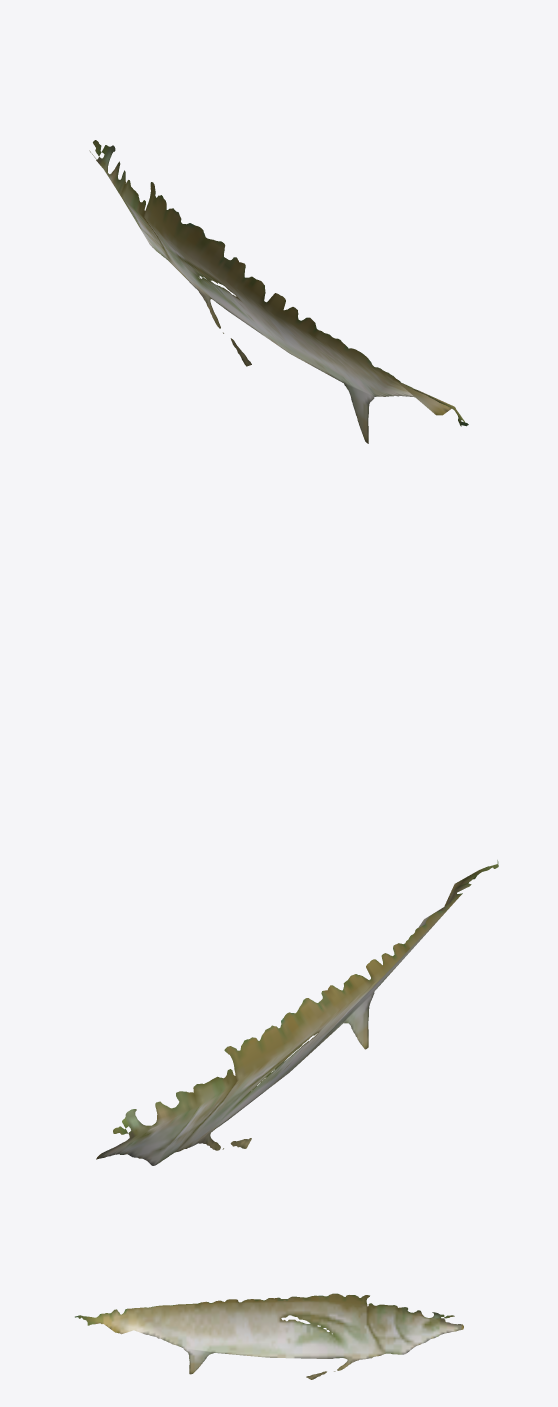
Rendered from INST_LT_GMARLIN.fbx.
The picture shows the model from 3 angles, top to bottom: view 1: azimuth 30°, elevation 25°; view 2: azimuth 150°, elevation 25°; view 3: azimuth 270°, elevation 25°; orthographic projection. The views are drawn at different scales.
Visible parts, largest first — view 1: INST_LT_GMARLIN; view 2: INST_LT_GMARLIN; view 3: INST_LT_GMARLIN.
Boxes of the visible parts, x1,y1,x2,y2 form: INST_LT_GMARLIN: (89,140,468,443); INST_LT_GMARLIN: (96,860,498,1165); INST_LT_GMARLIN: (75,1293,463,1379).
Bounding box in the file's own units: 798 × 4635 × 12545.
Materials: 1 (1 with a texture image).
